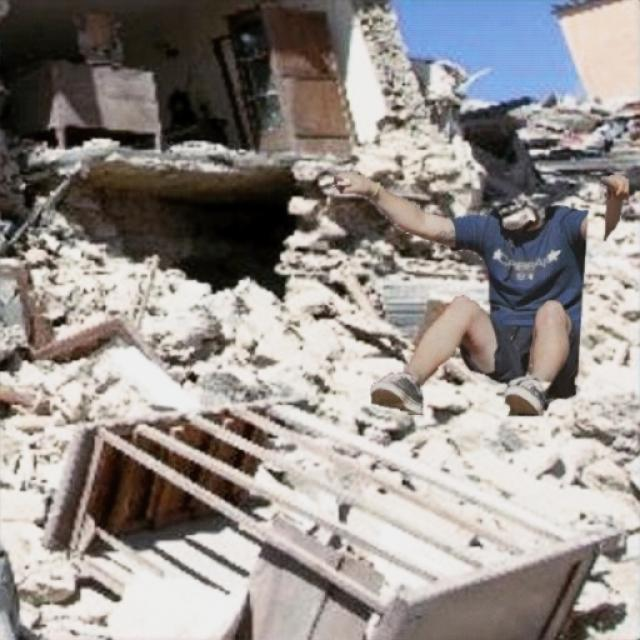Person in Rubble: (332, 171, 628, 415)
